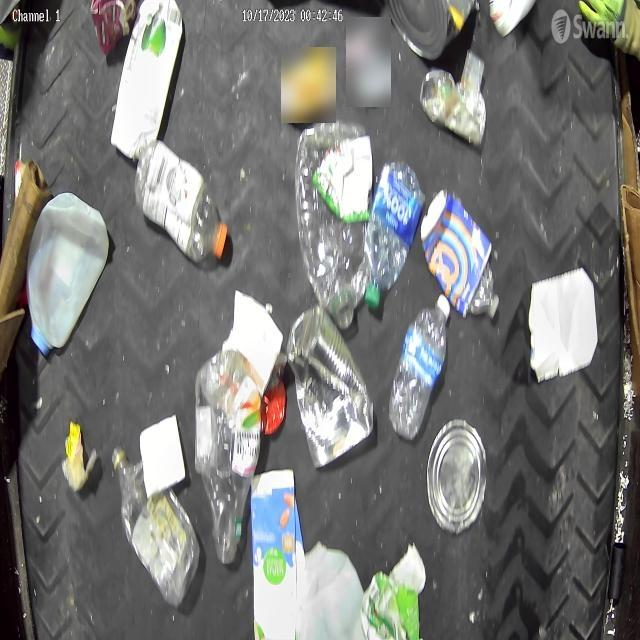milk_jug: (26, 191, 110, 358), (294, 543, 367, 640)
plastic_bottle: (294, 113, 374, 330), (194, 347, 266, 570), (110, 442, 198, 605), (136, 138, 230, 266), (388, 294, 451, 436), (365, 158, 425, 304)
